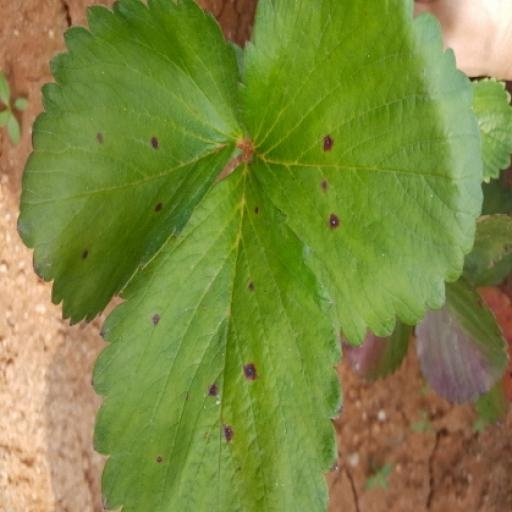Leaf Spot: (168, 0, 421, 352), (27, 165, 271, 511), (267, 185, 497, 511)
